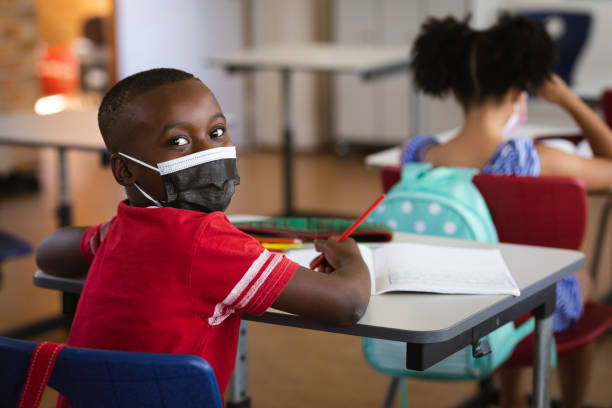with mask: (97, 72, 252, 213)
